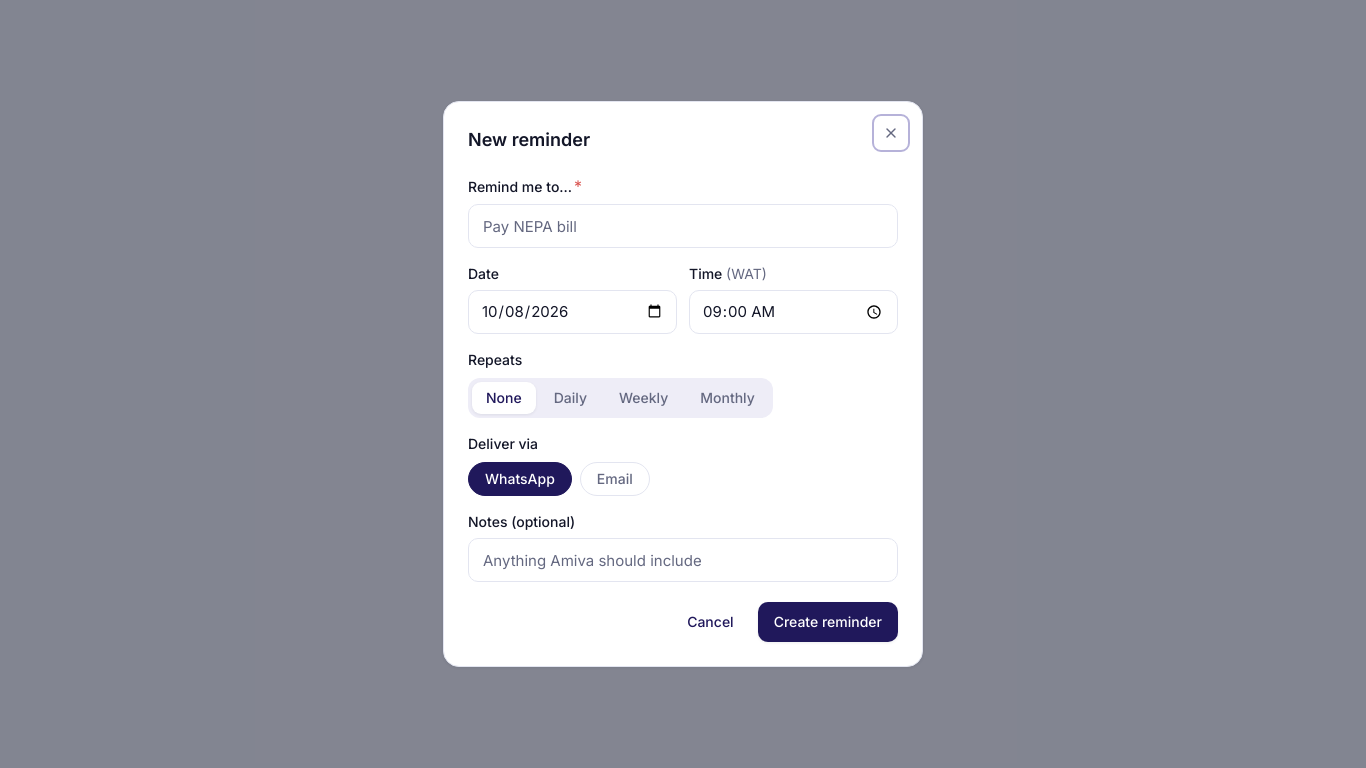
Scenario: ReminderModal — create › requires a title
The width and height of the screenshot is (1366, 768).
Click the button "Create reminder": (828, 622) [758,602,898,642]
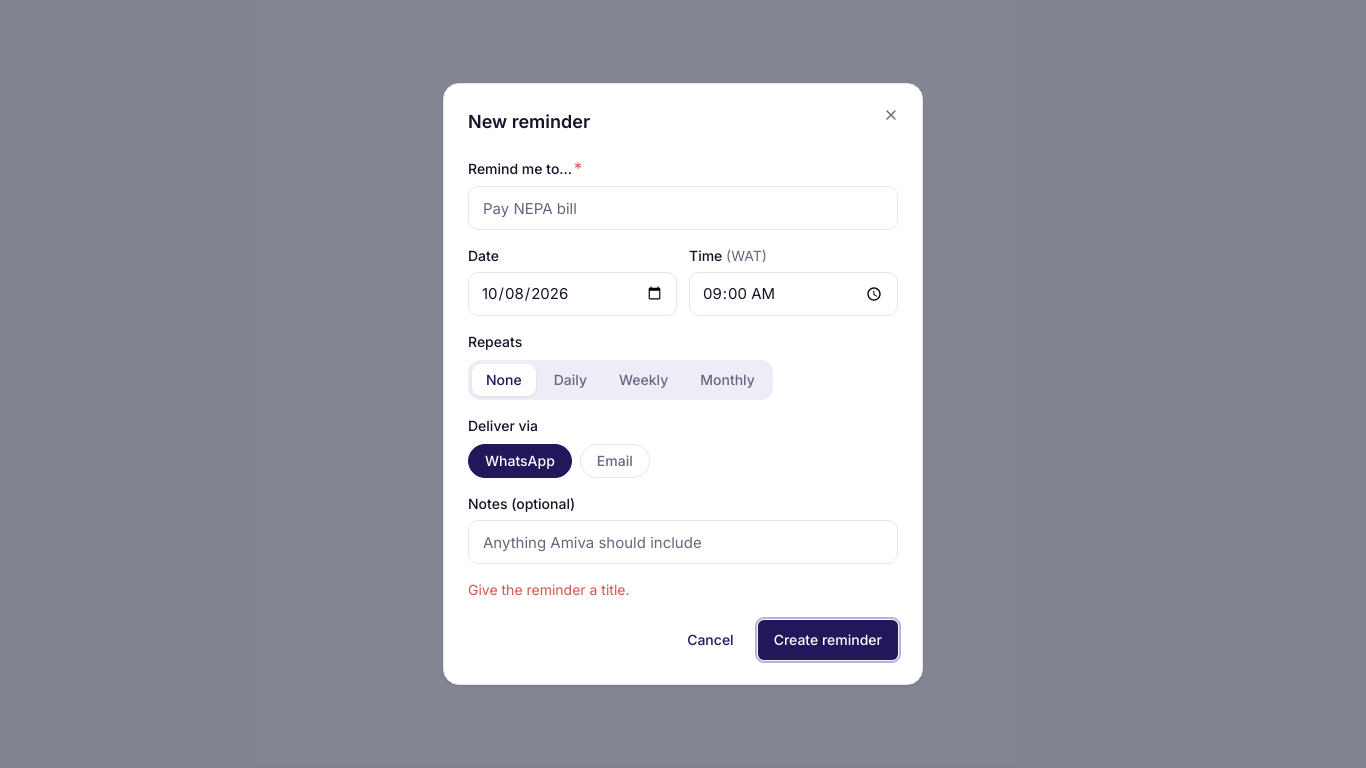
Expected: the message reads "Give the reminder a title.", [468,581,630,598]
